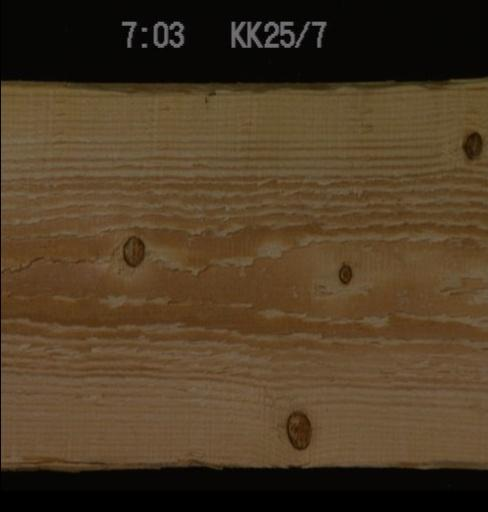dry_knot: (118, 232, 145, 266), (457, 126, 483, 161), (333, 260, 352, 285)
wave: (0, 450, 482, 473), (0, 79, 394, 104)
